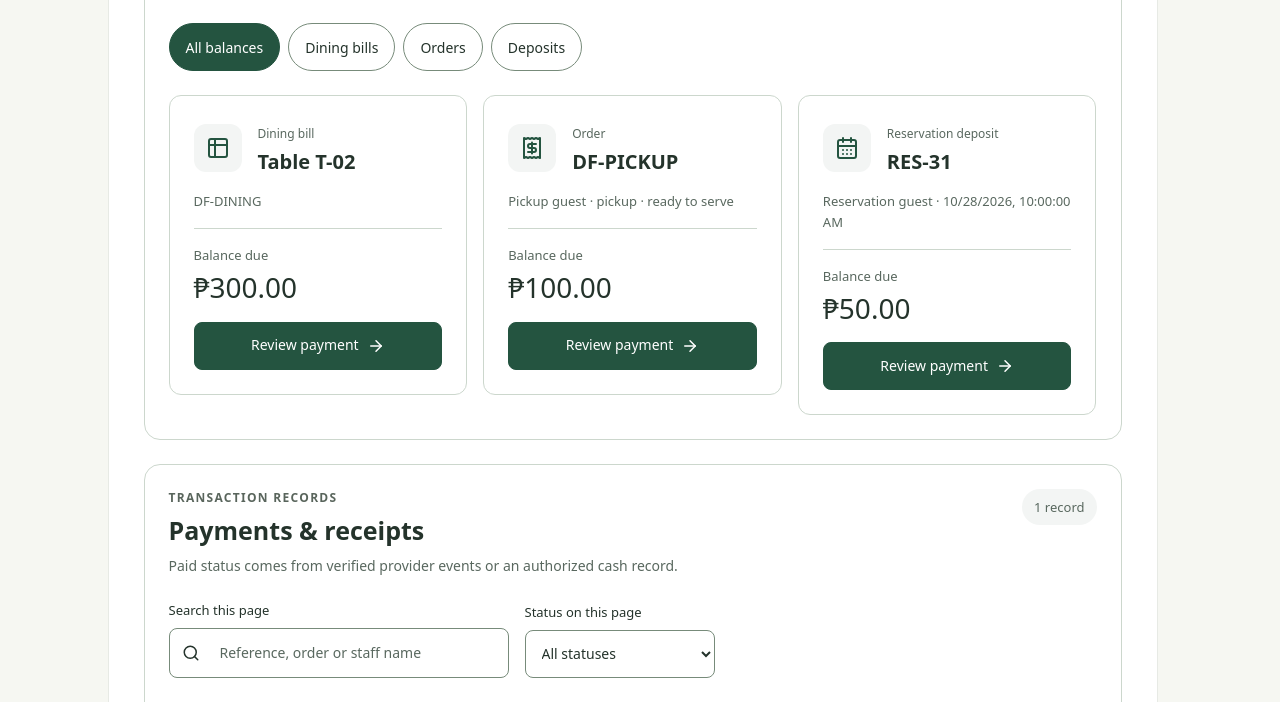
keeps the review description available if a refreshed balance disappears
The image size is (1280, 702).
(page scrolled)
Step 1. Click the button "Review payment" below "₱300.00" → (318, 346), box 194,322 -> 442,370
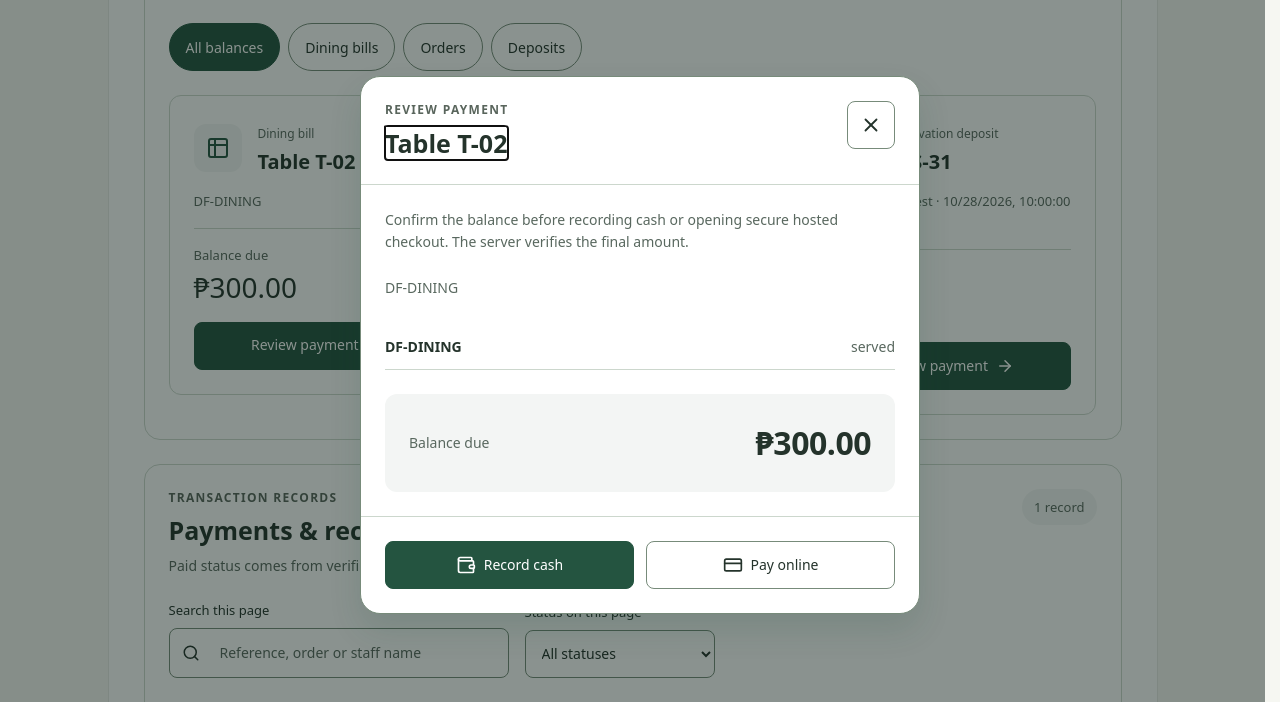
Step 2. Click the button "Record cash" → (510, 565), box 385,541 -> 634,589
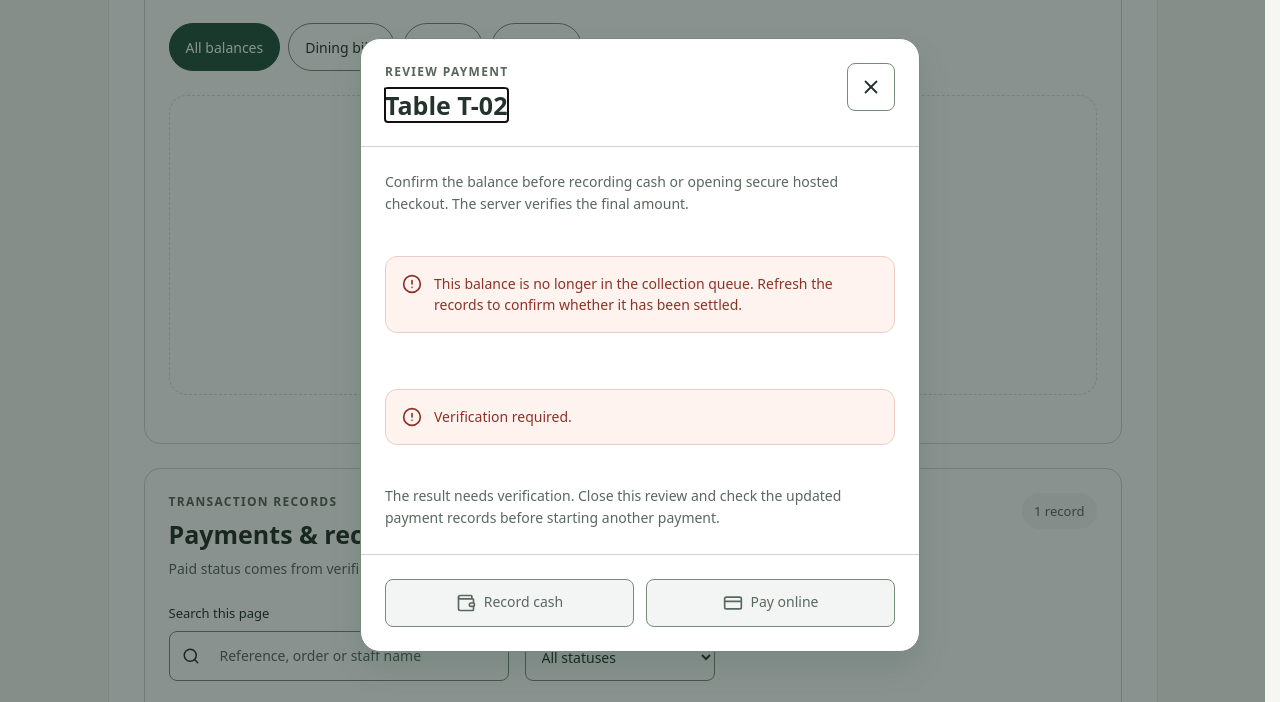
Expected: the text "This balance is no longer" is shown, 434,274 -> 833,314
